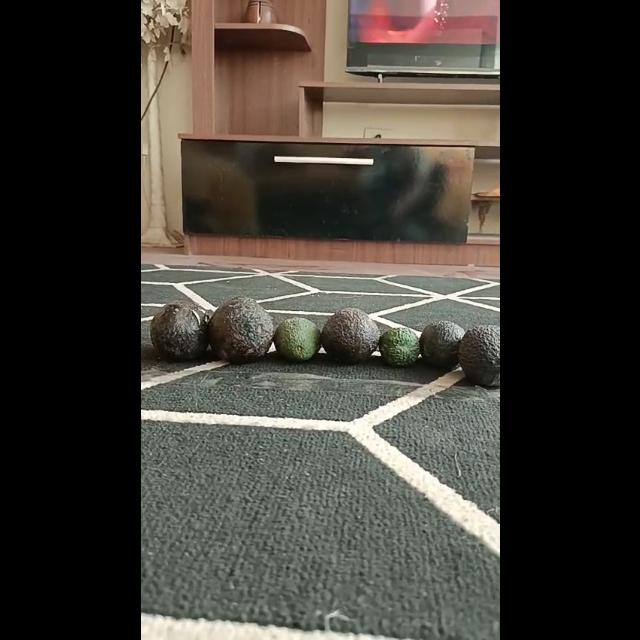Primera: (206, 296, 274, 364), (150, 300, 210, 360), (320, 308, 378, 364), (457, 324, 498, 386)
Segunda: (420, 320, 464, 368), (272, 318, 320, 362)
Tercera: (378, 327, 420, 368)
